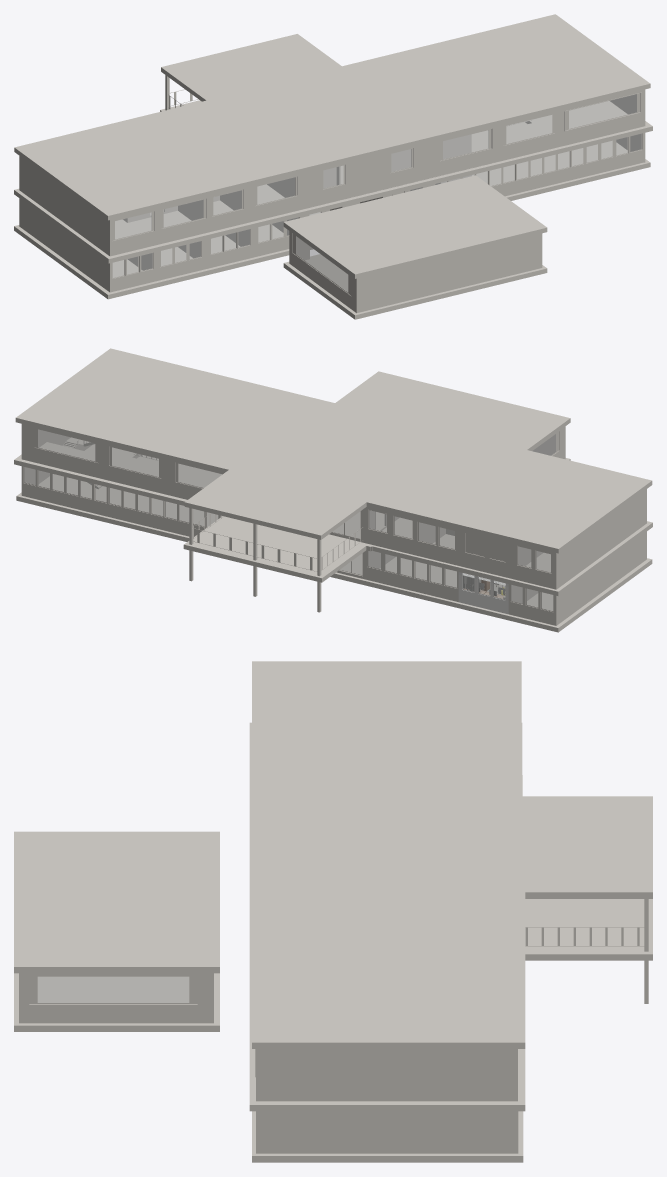
File: kacyber_walk.glb
3 renders of one model, top to bottom at view 1: azimuth 30°, elevation 25°; view 2: azimuth 150°, elevation 25°; view 3: azimuth 270°, elevation 25°, orthographic. The views are drawn at different scales.
Parts seen in each view (by area): view 1: BEYOND_L2_SLAB, BEYOND_L1_WALL, BEYOND_L0_WALL, BEYOND_L0_SLAB, BEYOND_L1_SLAB, BEYOND_L1_GLASS, BEYOND_L0_GLASS, BEYOND_L1_FRAME, UPPER_in_zone, BEYOND_L0_FRAME, BEYOND_L1_OTHER, BEYOND_L0_OTHER; view 2: BEYOND_L2_SLAB, BEYOND_L1_SLAB, BEYOND_L1_WALL, BEYOND_L0_WALL, BEYOND_L0_SLAB, BEYOND_L1_GLASS, BEYOND_L0_GLASS, UPPER_in_zone, BEYOND_L0_FRAME, BEYOND_L1_FRAME, BAKE_wall_north, BEYOND_L1_OTHER (+6 smaller); view 3: BEYOND_L2_SLAB, BEYOND_L0_WALL, BEYOND_L1_WALL, BEYOND_L1_SLAB, BEYOND_L0_SLAB, BEYOND_L0_GLASS, UPPER_in_zone, BEYOND_L0_FRAME.
Boxes of the visible parts, x1,y1,x2,y2 form: BEYOND_L2_SLAB: (14, 14, 650, 278); BEYOND_L1_WALL: (19, 89, 645, 256); BEYOND_L0_WALL: (19, 133, 645, 313); BEYOND_L0_SLAB: (14, 122, 650, 319); BEYOND_L1_SLAB: (14, 100, 652, 263); BEYOND_L1_GLASS: (115, 94, 636, 238); BEYOND_L0_GLASS: (113, 134, 641, 291); BEYOND_L1_FRAME: (113, 93, 640, 240); UPPER_in_zone: (67, 123, 153, 162); BEYOND_L0_FRAME: (112, 134, 642, 295); BEYOND_L1_OTHER: (112, 89, 641, 240); BEYOND_L0_OTHER: (124, 133, 642, 295); BEYOND_L2_SLAB: (15, 348, 652, 553); BEYOND_L1_SLAB: (14, 442, 652, 596); BEYOND_L1_WALL: (21, 424, 646, 589); BEYOND_L0_WALL: (21, 426, 646, 625); BEYOND_L0_SLAB: (16, 444, 652, 632); BEYOND_L1_GLASS: (38, 429, 550, 572); BEYOND_L0_GLASS: (24, 434, 555, 610); UPPER_in_zone: (458, 496, 544, 577); BEYOND_L0_FRAME: (23, 431, 558, 611); BEYOND_L1_FRAME: (34, 428, 551, 573); BAKE_wall_north: (458, 572, 508, 614); BEYOND_L1_OTHER: (34, 428, 551, 573); BEYOND_L2_SLAB: (14, 661, 652, 1048); BEYOND_L0_WALL: (19, 973, 518, 1153); BEYOND_L1_WALL: (256, 1049, 517, 1101); BEYOND_L1_SLAB: (249, 722, 652, 1111); BEYOND_L0_SLAB: (14, 775, 523, 1162); BEYOND_L0_GLASS: (38, 977, 188, 1002); UPPER_in_zone: (412, 697, 517, 732); BEYOND_L0_FRAME: (29, 976, 197, 1003).
Bounding box in the file's own units: 38.22 × 5.6 × 27.
Materials: 11 (8 with a texture image).
